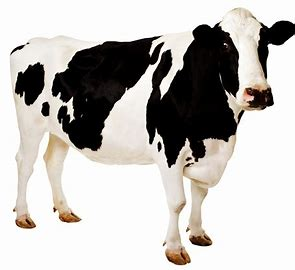waka: (7, 5, 283, 266)
